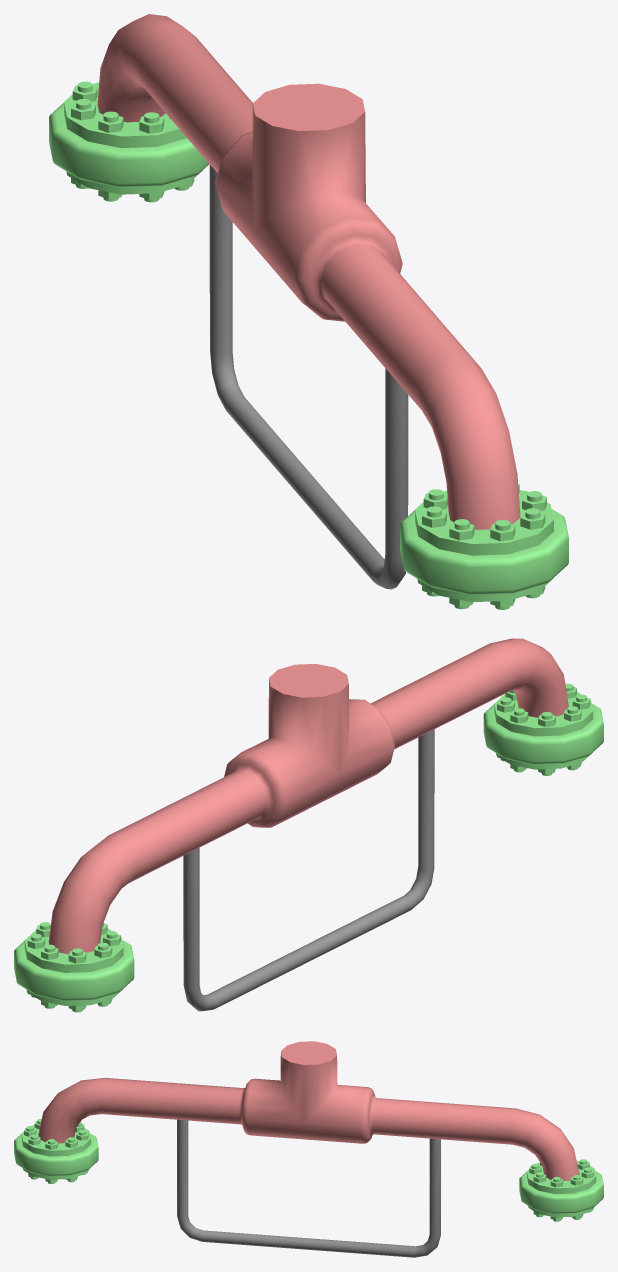
File: SM_SUG_All_Right_03.gltf
The picture shows the model from 3 angles, top to bottom: view 1: azimuth 30°, elevation 25°; view 2: azimuth 150°, elevation 25°; view 3: azimuth 270°, elevation 25°; orthographic projection. The views are drawn at different scales.
Visible parts, largest first — view 1: SM_SUG_All_Right_03; view 2: SM_SUG_All_Right_03; view 3: SM_SUG_All_Right_03.
Part boxes in pixels (x1,y1,x2,y2): SM_SUG_All_Right_03: [49, 14, 568, 609]; SM_SUG_All_Right_03: [14, 638, 603, 1012]; SM_SUG_All_Right_03: [14, 1041, 603, 1257].
Size of the model in its own units: 0.2072 by 0.2581 by 0.7035.
